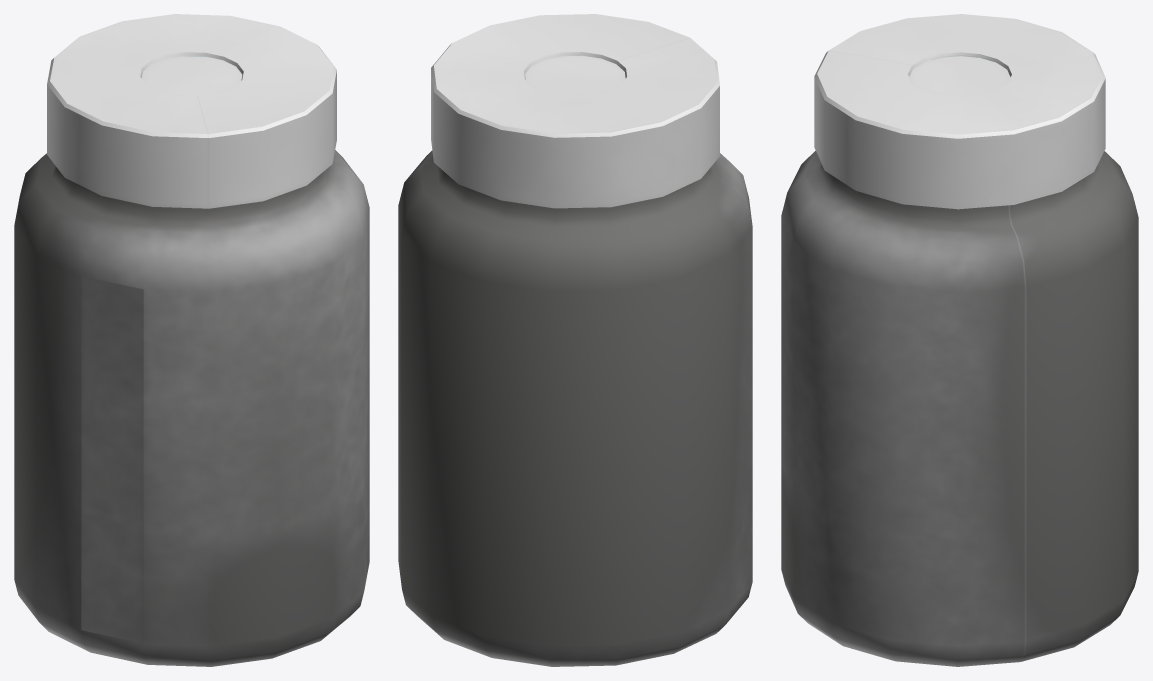
Rendered from DrugsBottleA.fbx.
3 renders of one model, left to right at view 1: azimuth 30°, elevation 25°; view 2: azimuth 150°, elevation 25°; view 3: azimuth 270°, elevation 25°, orthographic.
Visible parts, largest first — view 1: DrugsBottleA; view 2: DrugsBottleA; view 3: DrugsBottleA.
Part boxes in pixels (x1,y1,x2,y2): DrugsBottleA: (14, 14, 369, 666); DrugsBottleA: (398, 14, 752, 666); DrugsBottleA: (781, 14, 1138, 666).
Size of the model in its own units: 3.7 by 6.01 by 3.7.
